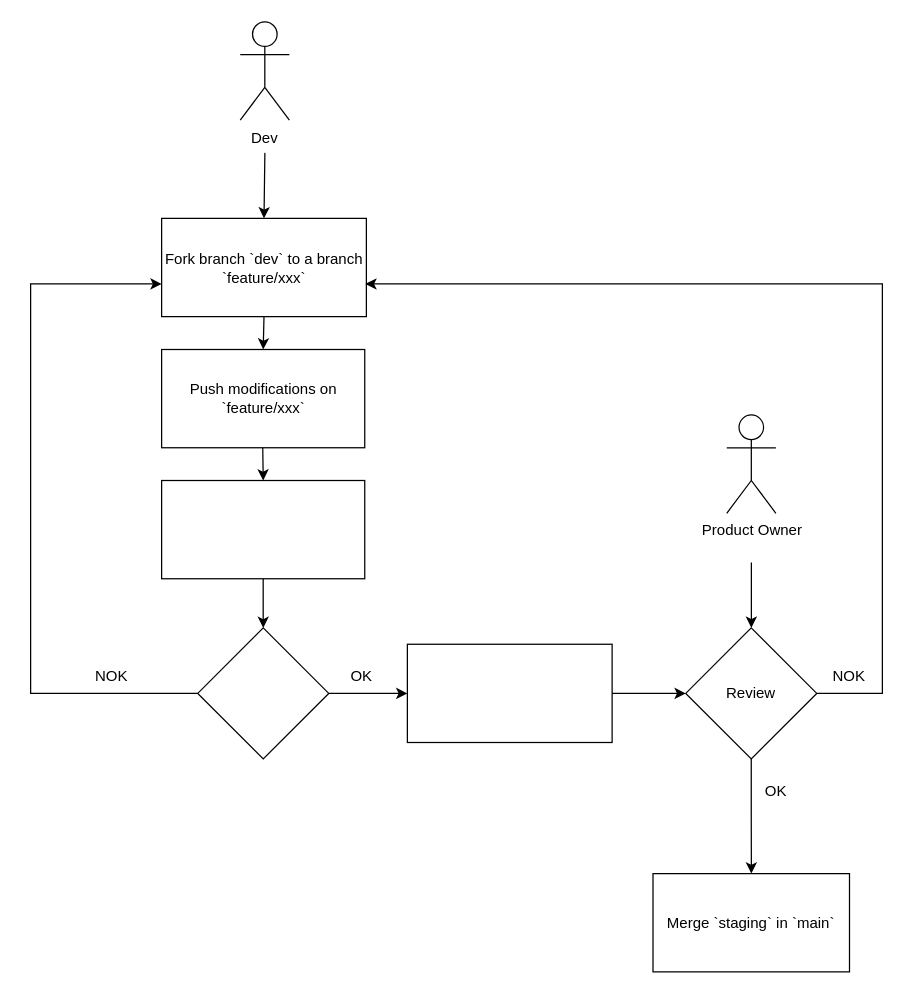
Some shapes in this 915 by 994 pixel diagram are drawn without their labels. The centre of each missing label's shape, as x and y in pixels:
"Merge `dev` in `staging`" goes at point (509, 692).
"Merge branch `feature/xxx` in `dev`" goes at point (262, 529).
"Unit Test Locally" goes at point (262, 693).
